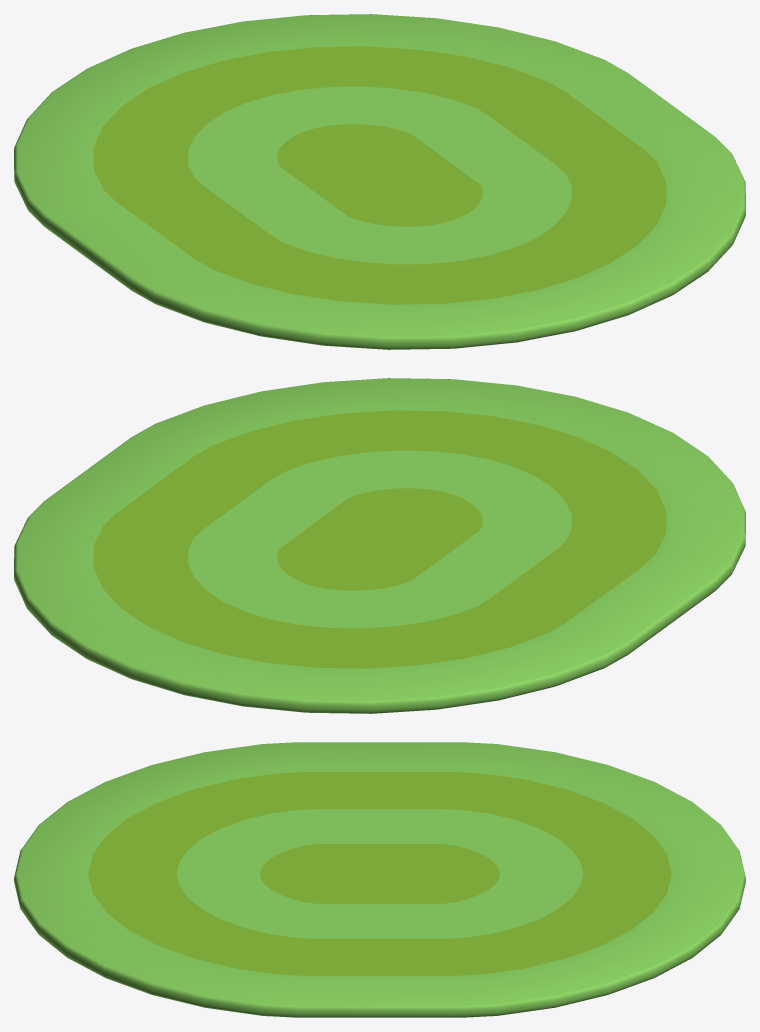
Rendered from Carpet5.glb.
The picture shows the model from 3 angles, top to bottom: view 1: azimuth 30°, elevation 25°; view 2: azimuth 150°, elevation 25°; view 3: azimuth 270°, elevation 25°; orthographic projection. The views are drawn at different scales.
Visible parts, largest first — view 1: Carpet; view 2: Carpet; view 3: Carpet.
Part boxes in pixels (bbox=[...]): Carpet: bbox=[14, 14, 745, 349]; Carpet: bbox=[14, 378, 745, 713]; Carpet: bbox=[14, 742, 745, 1017].
Bounding box in the file's own units: 1.38 × 0.0292 × 1.6.
